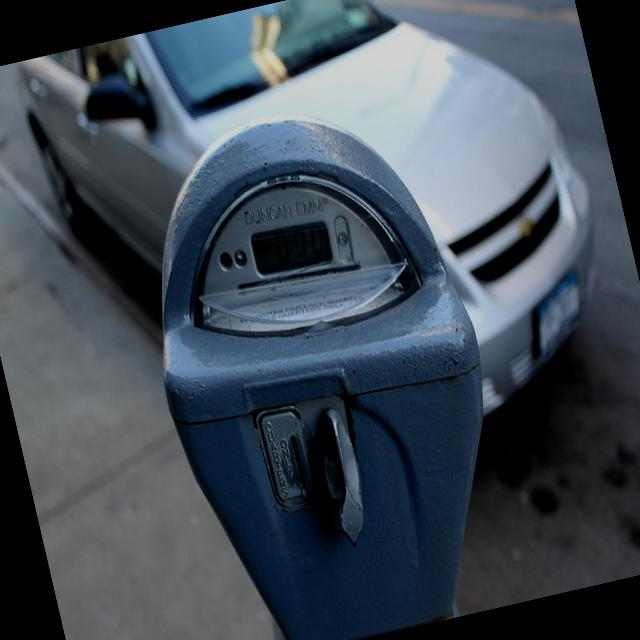Vehicle: (11, 0, 637, 502)
